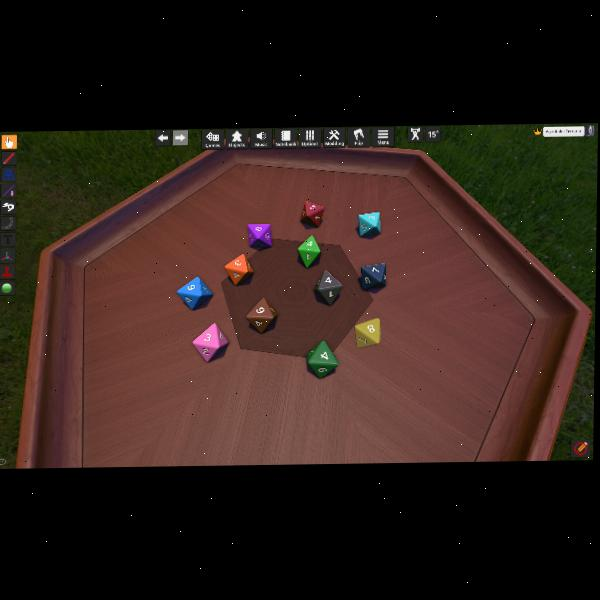d8: (192, 321, 228, 361), (177, 276, 212, 310), (307, 340, 338, 378), (246, 297, 277, 331), (314, 269, 343, 305), (224, 254, 254, 285), (355, 318, 381, 349), (296, 234, 320, 267), (360, 263, 386, 290), (357, 211, 380, 238), (247, 223, 272, 247), (300, 201, 322, 228)
